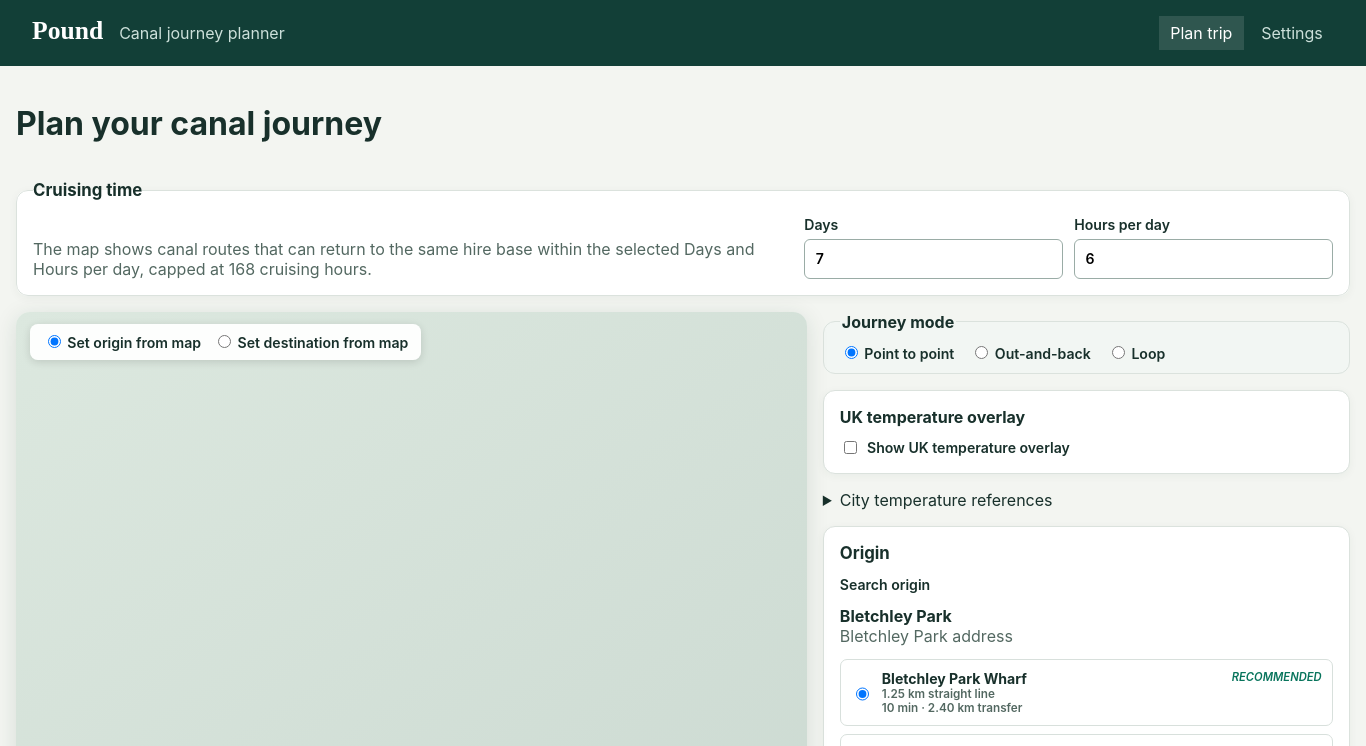
Test: trip planning interface › preserves schedule inputs while visiting settings and marks the active page
Replace the text in the number field labelled "Days" with "4" at (934, 259), box [804,239,1063,279]
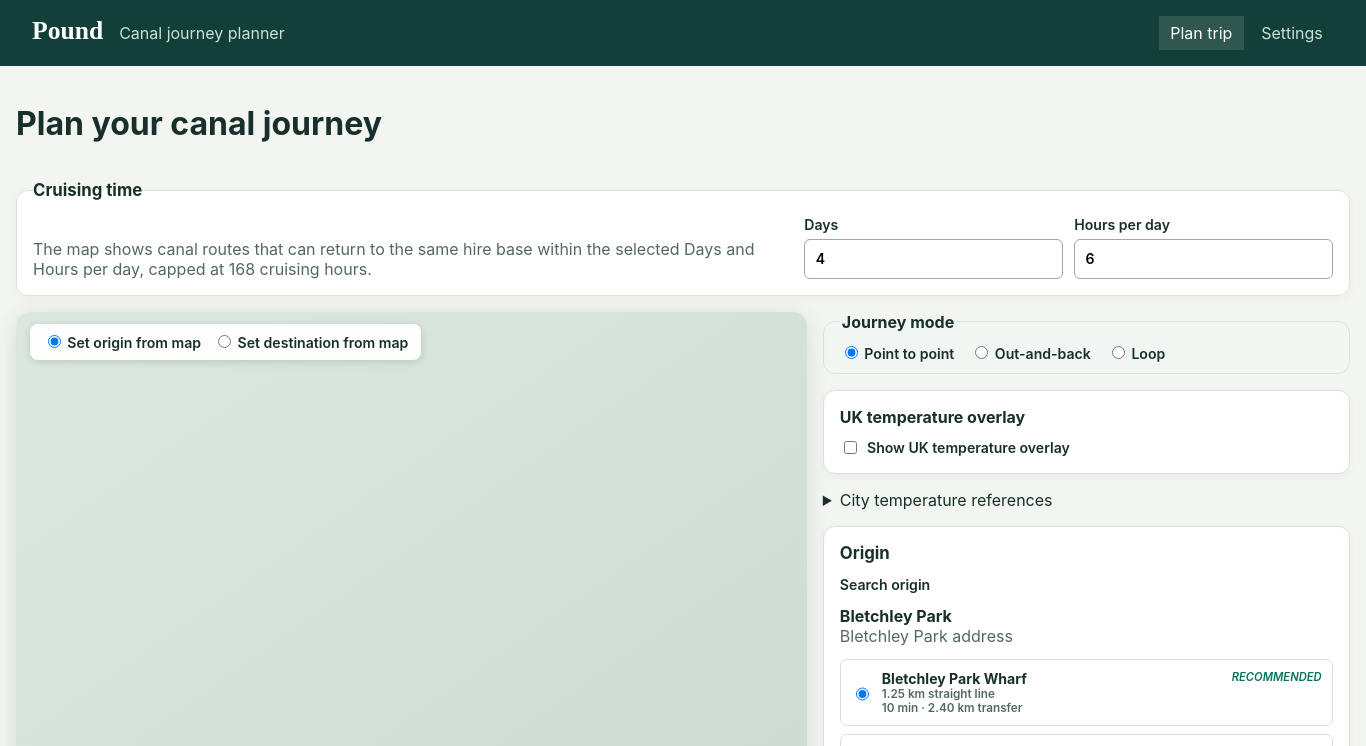
Replace the text in the number field labelled "Hours per day" with "7" at (1204, 259), box [1074,239,1333,279]
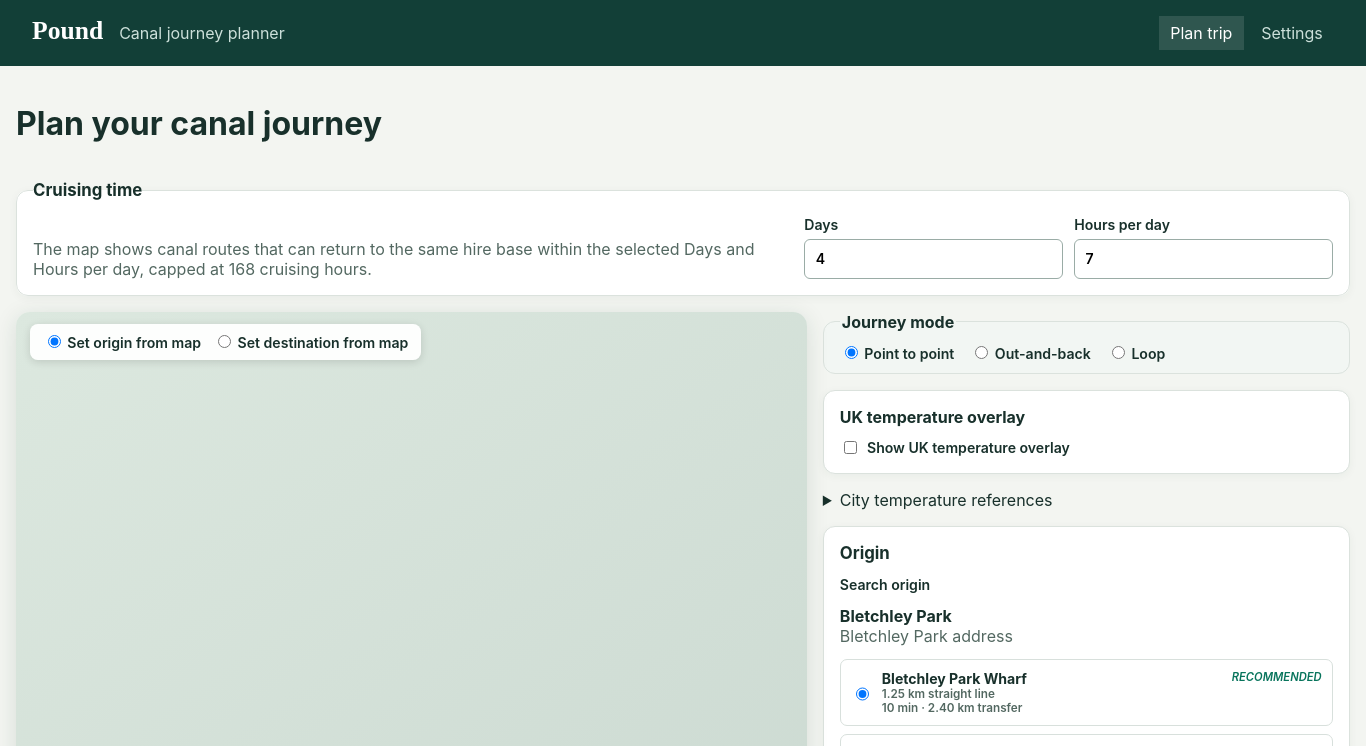
Click the link "Settings" at (1292, 33), box [1261,23,1323,43]
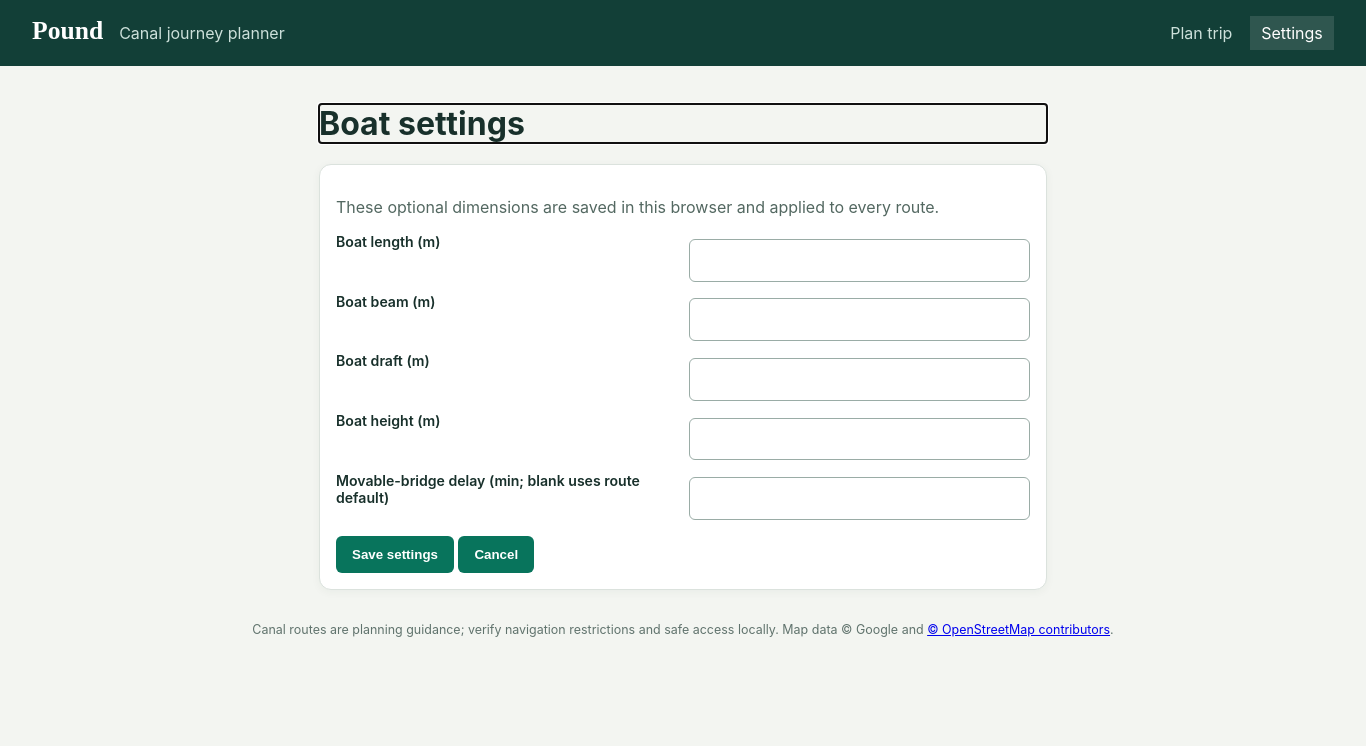
Check: the link "Settings" is marked as current, box [1250,16,1334,50]
Click the link "Plan trip" at (1201, 33), box [1170,23,1232,43]
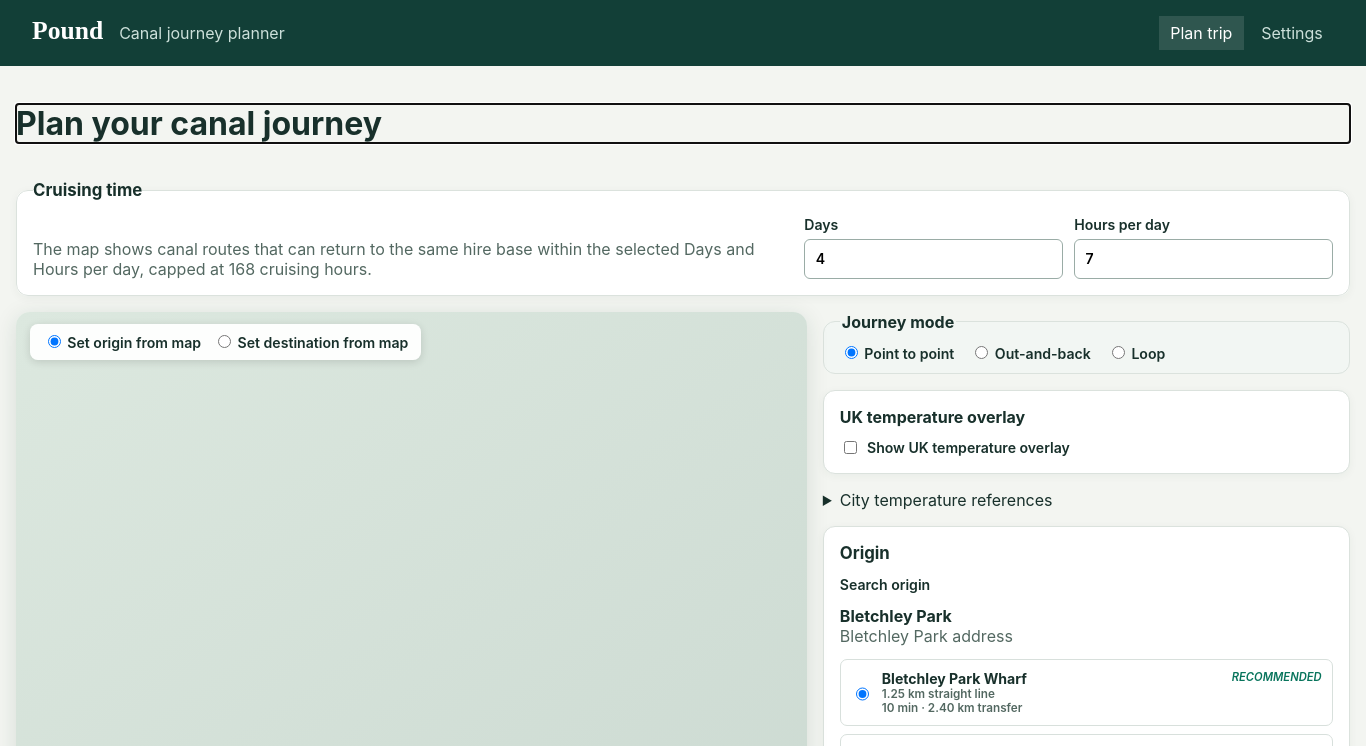
Check: the number field labelled "Days" holds "4", box [804,239,1063,279]
Check: the number field labelled "Hours per day" holds "7", box [1074,239,1333,279]
